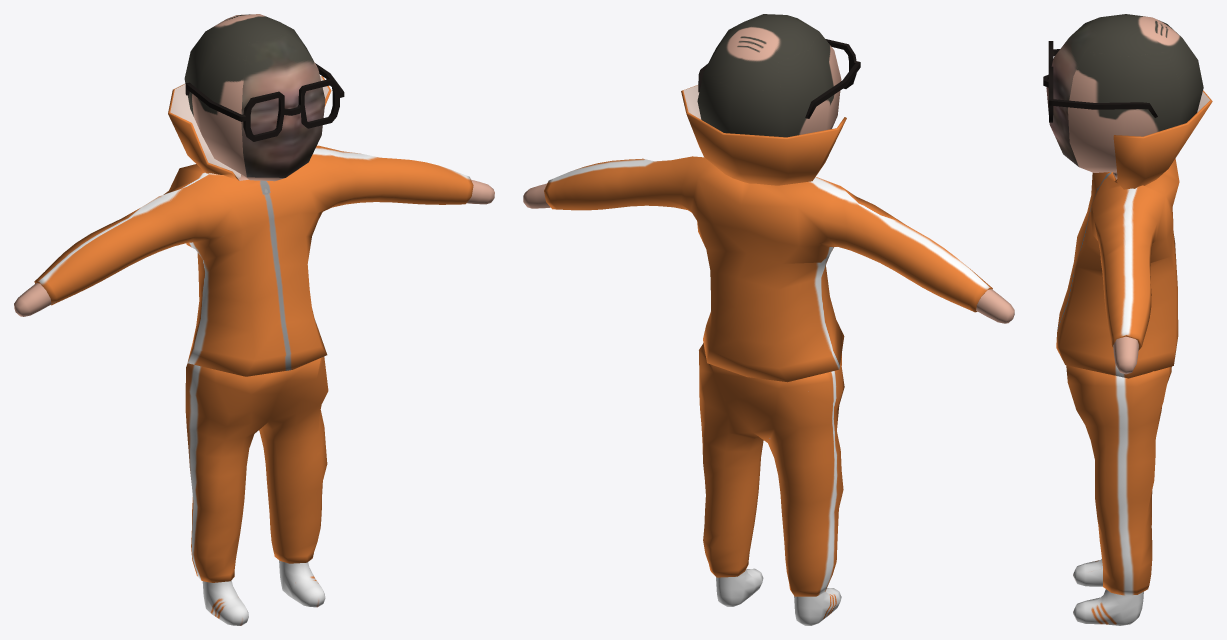
The model's file is PeteBase.fbx.
The picture shows the model from 3 angles, left to right: view 1: azimuth 30°, elevation 25°; view 2: azimuth 150°, elevation 25°; view 3: azimuth 270°, elevation 25°; orthographic projection. The views are drawn at different scales.
Parts seen in each view (by area): view 1: TOP, Bottoms, Pete_Arm; view 2: TOP, Bottoms, Pete_Arm; view 3: TOP, Pete_Arm, Bottoms.
Boxes of the visible parts, x1,y1,x2,y2 form: TOP: (34, 76, 473, 376); Bottoms: (185, 356, 328, 582); Pete_Arm: (14, 14, 494, 625); TOP: (544, 85, 992, 382); Bottoms: (699, 343, 844, 596); Pete_Arm: (523, 14, 1014, 625); TOP: (1056, 90, 1212, 378); Pete_Arm: (1043, 14, 1203, 625); Bottoms: (1066, 365, 1171, 595).
Bounding box in the file's own units: 141 × 163 × 42.93.
